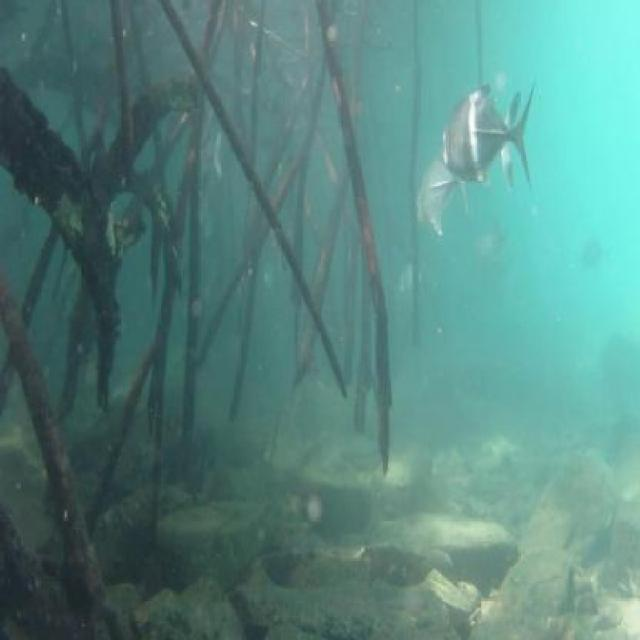Caranx_sexfasciatus_juvenile: (438, 70, 540, 202), (413, 140, 476, 243), (480, 213, 514, 262)
